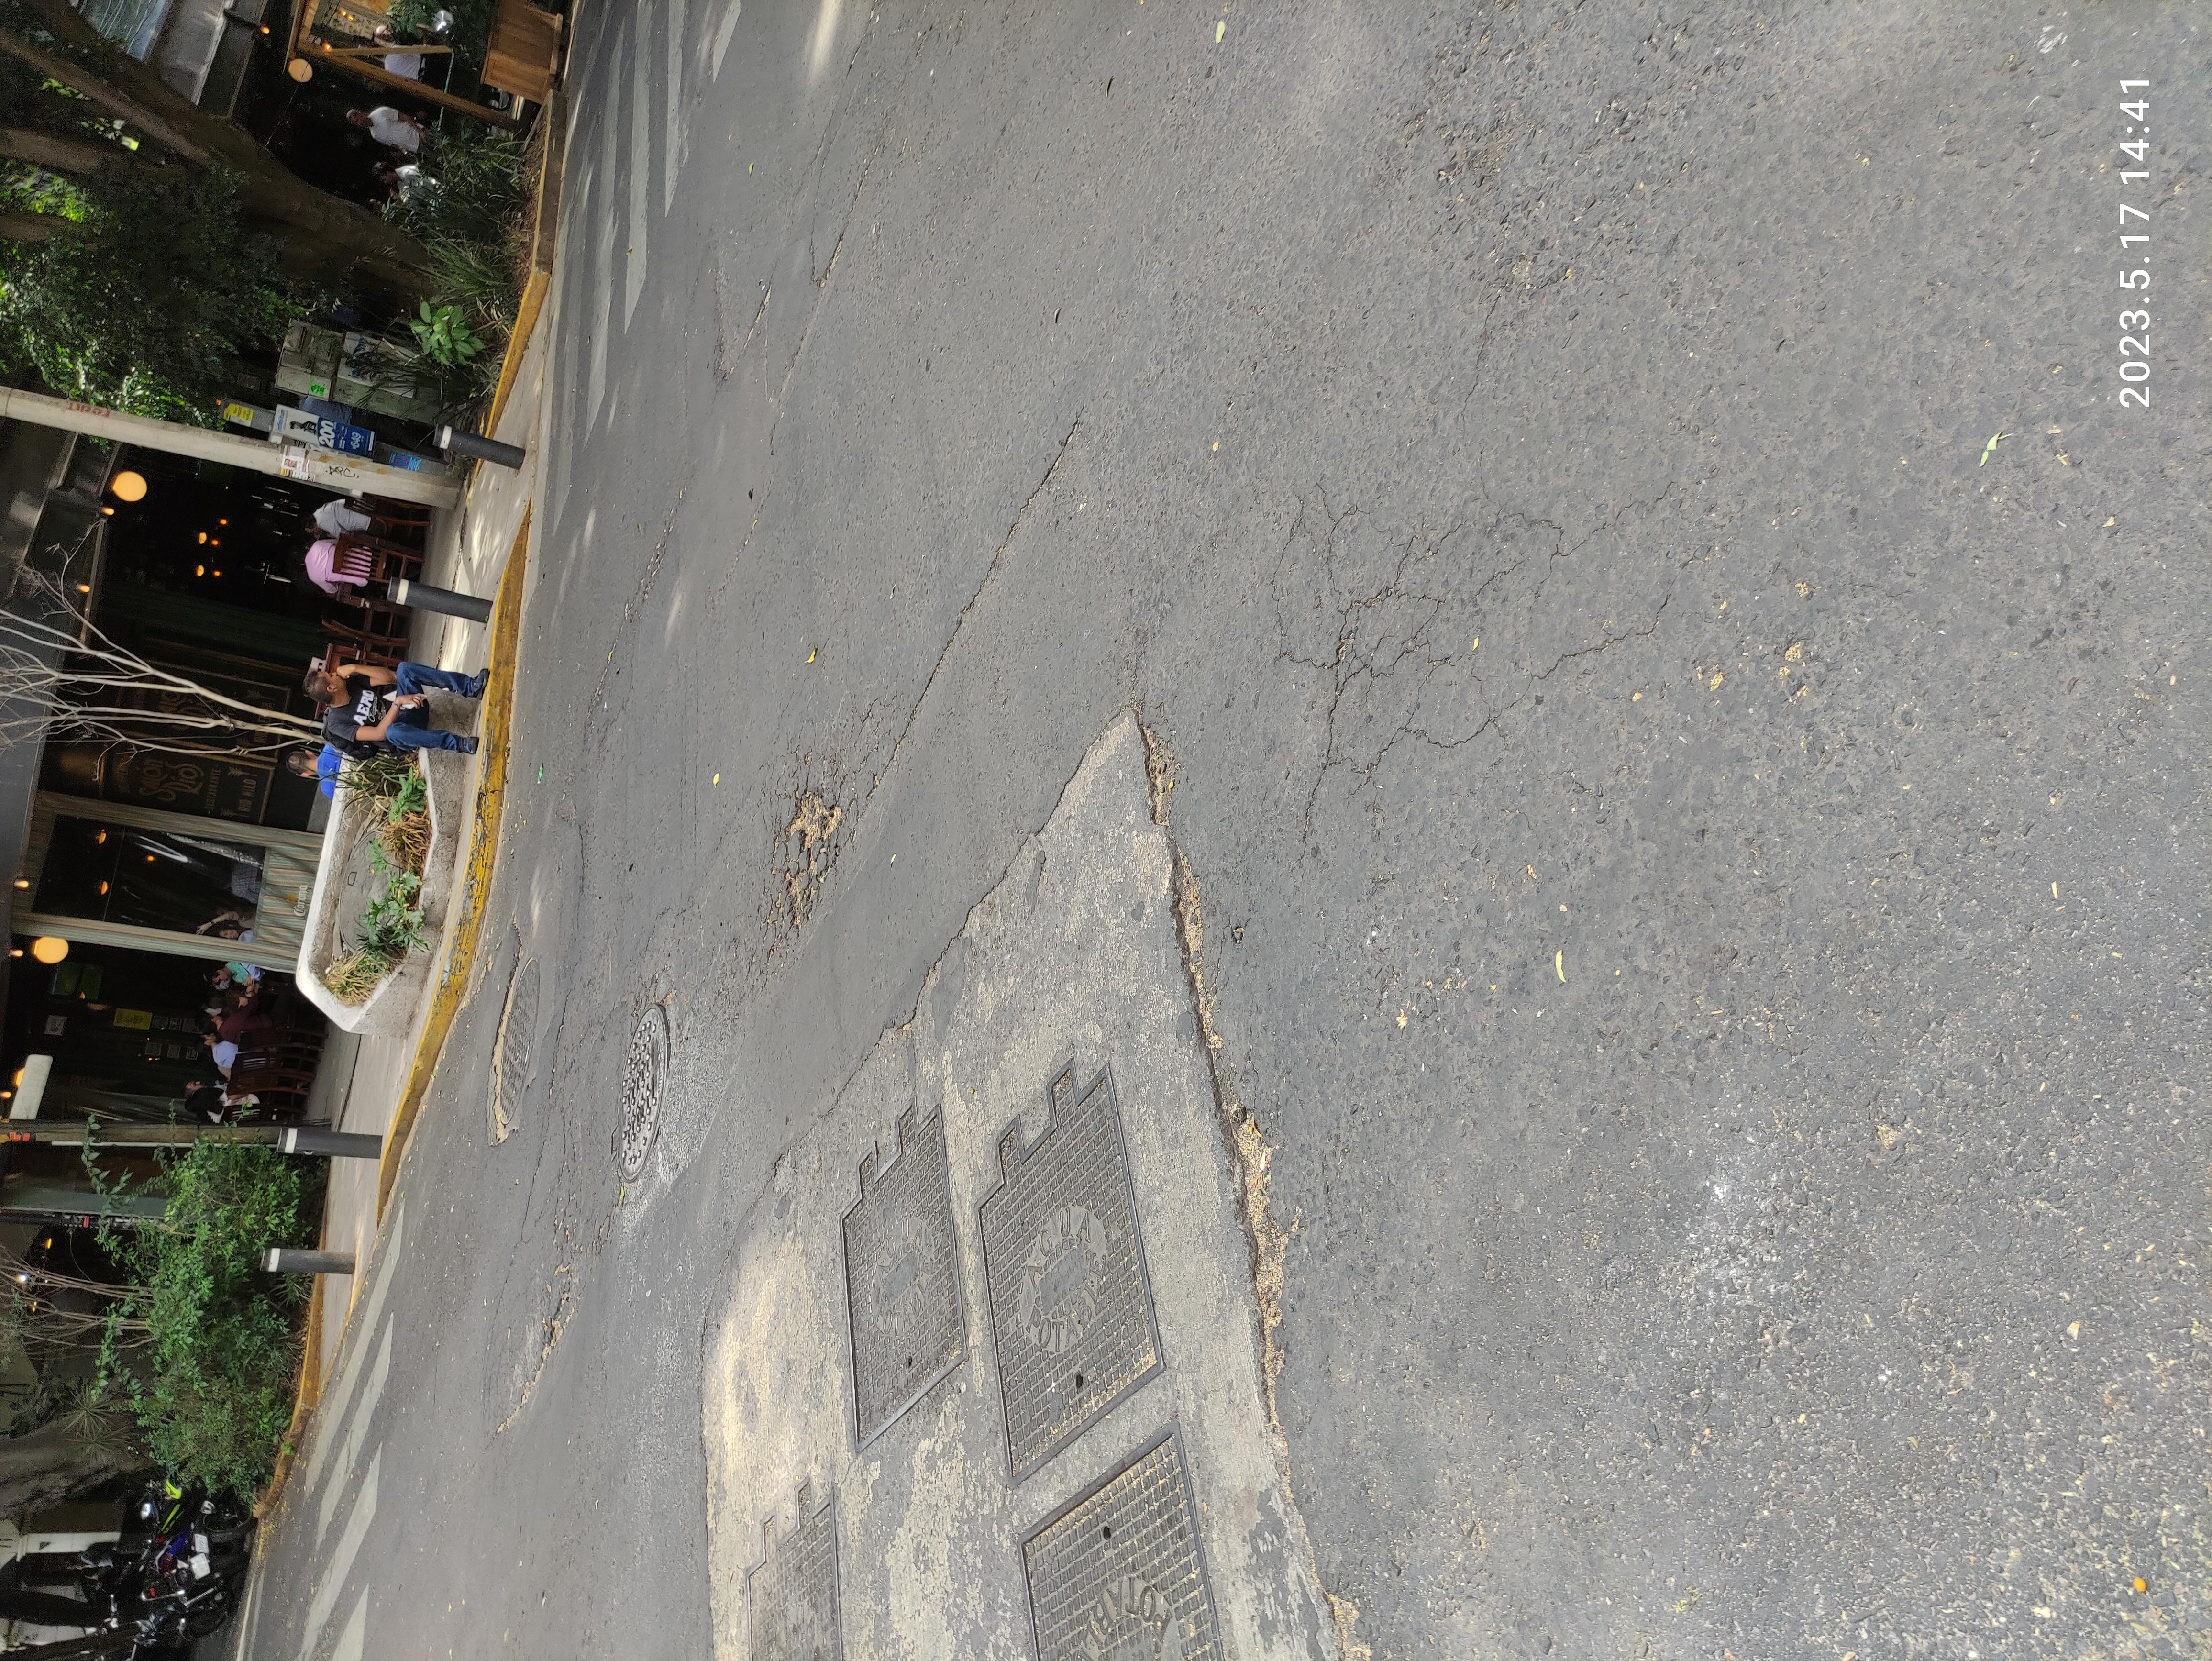alligator-crack: (1076, 928, 1638, 1241), (907, 558, 1260, 653), (841, 471, 944, 506)
pothole: (251, 853, 1256, 965), (396, 405, 541, 441), (1076, 591, 1162, 633)
